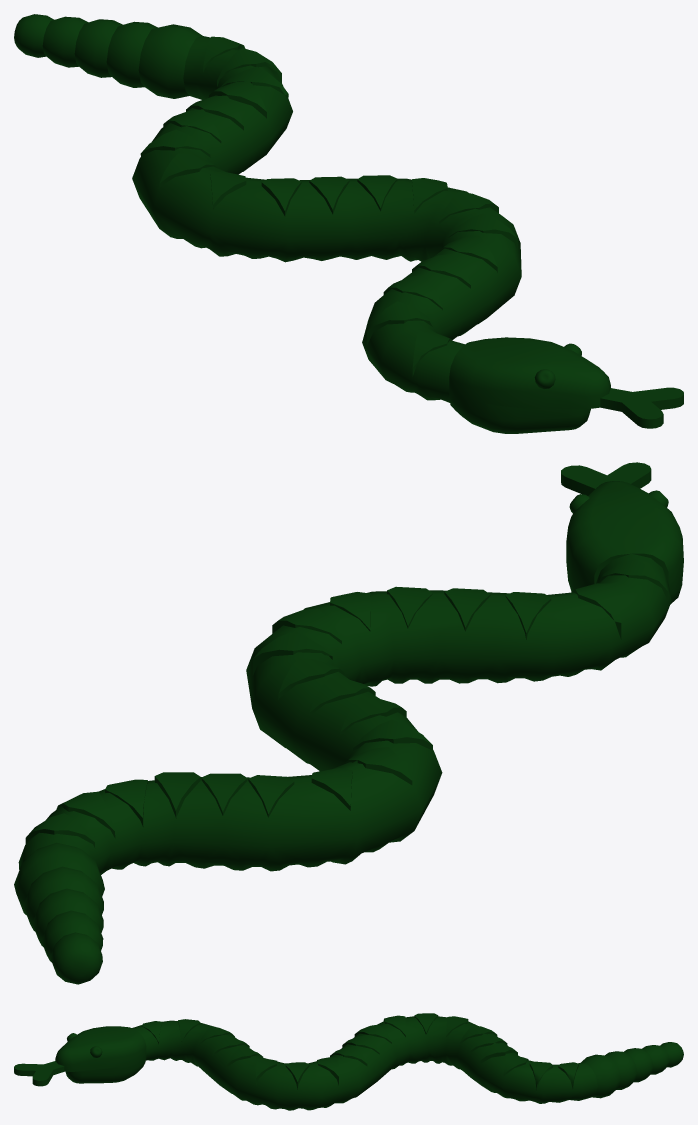
Rendered from snake.dae.
3 renders of one model, top to bottom at view 1: azimuth 30°, elevation 25°; view 2: azimuth 150°, elevation 25°; view 3: azimuth 270°, elevation 25°, orthographic. The views are drawn at different scales.
Visible parts, largest first — view 1: Part.0; view 2: Part.0; view 3: Part.0.
Part boxes in pixels (x1,y1,x2,y2): Part.0: [14, 14, 683, 433]; Part.0: [14, 462, 683, 984]; Part.0: [14, 1013, 683, 1110].
Size of the model in its own units: 10.28 by 3.14 by 41.74.
